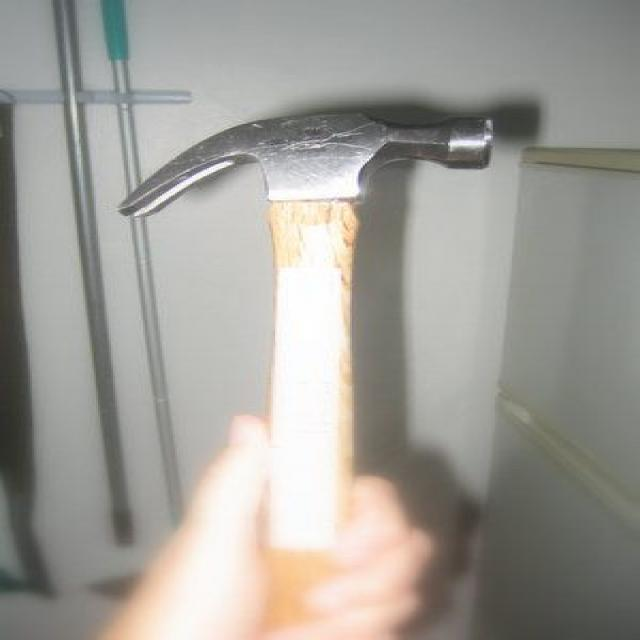hammer: (101, 102, 517, 548)
